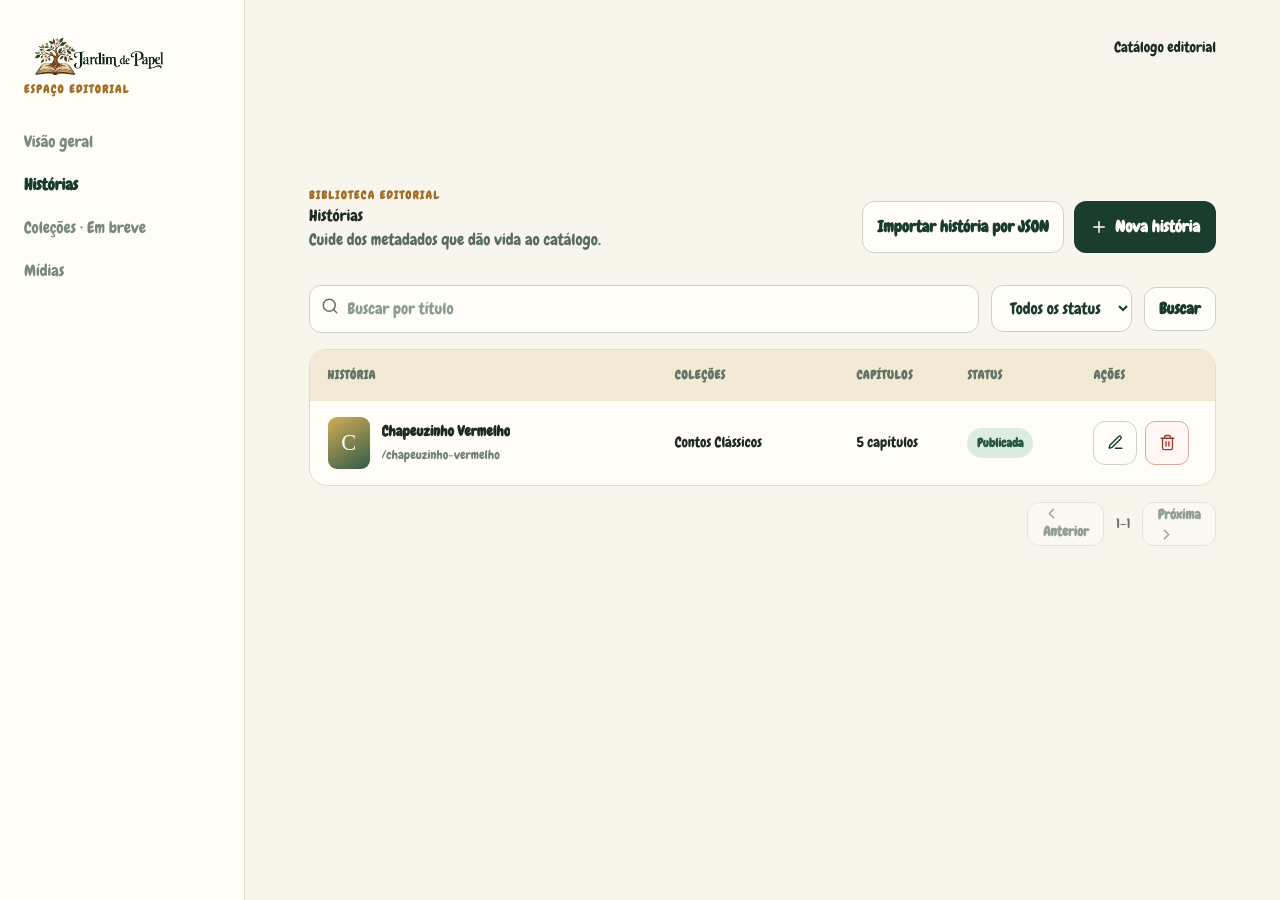
catálogo editorial de histórias › oferece a importação como alternativa ao formulário existente
The width and height of the screenshot is (1280, 900).
Expected: the text "Chapeuzinho Vermelho" is shown, x1=382 y1=421 x2=510 y2=443
Click the button "Importar história por JSON" at (963, 227), box x1=862 y1=201 x2=1064 y2=253
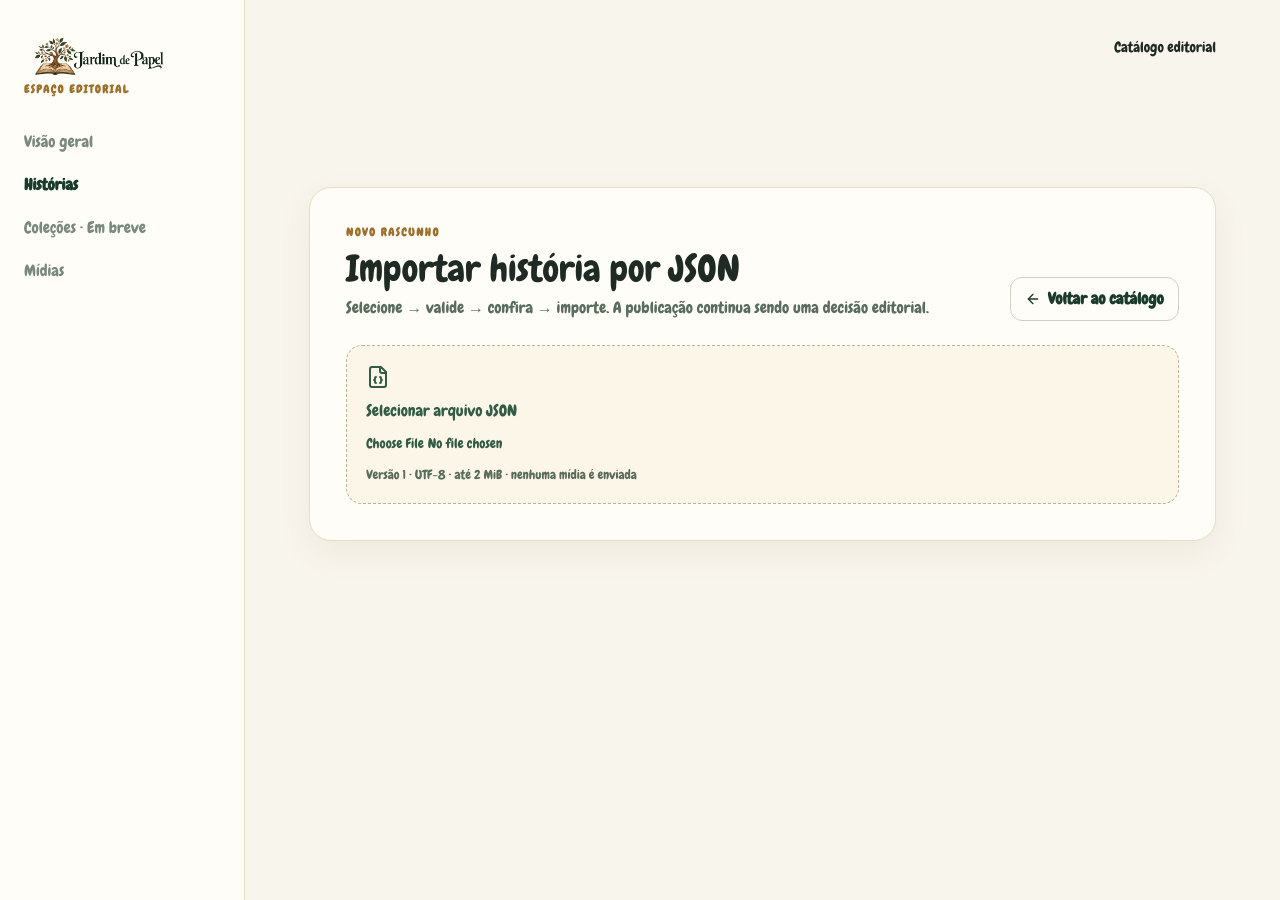
Expected: the heading "Importar história por JSON" is shown, x1=346 y1=245 x2=740 y2=292
Expected: the file field labelled "Selecionar arquivo JSON" is shown, x1=366 y1=434 x2=652 y2=454
Click the button "Voltar ao catálogo" at (1094, 299), box x1=1010 y1=277 x2=1179 y2=321
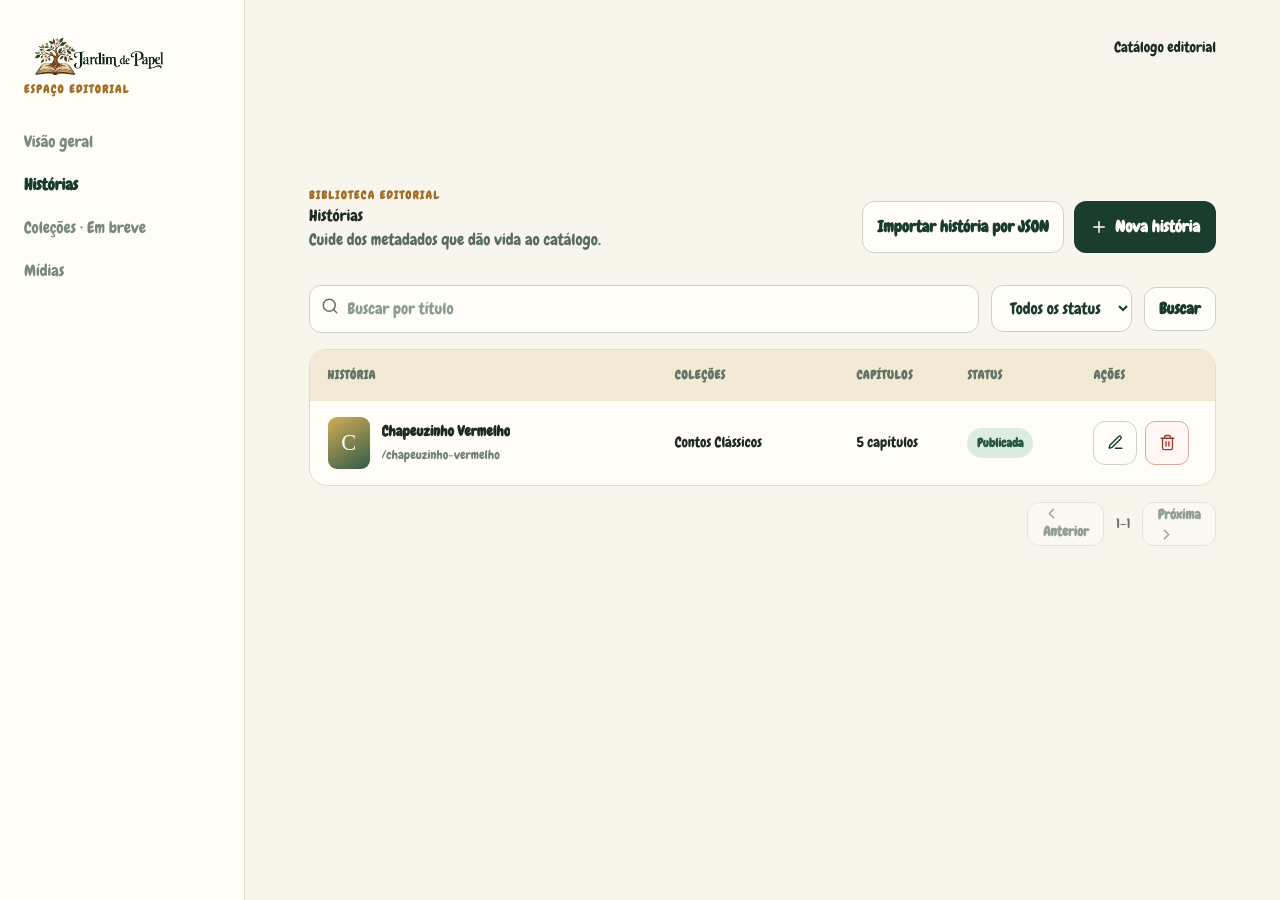
Now the heading "Histórias" is shown, box x1=309 y1=205 x2=363 y2=226
